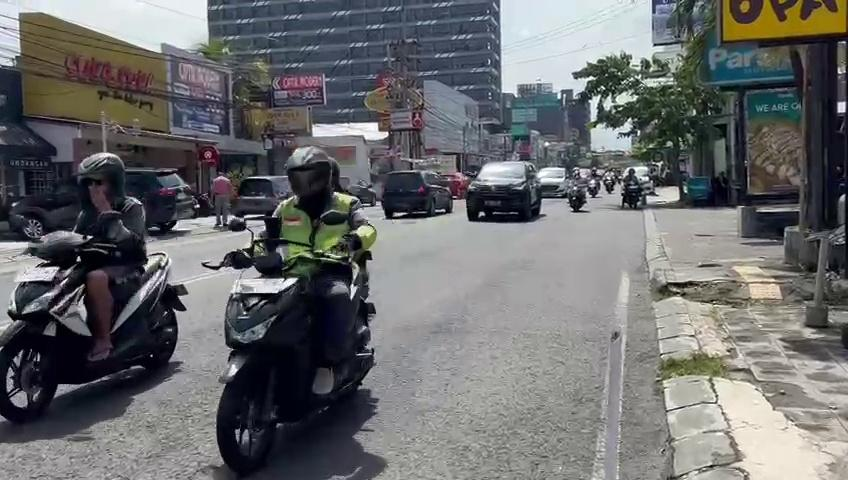helm: (280, 144, 340, 208)
riding: (195, 141, 385, 477)
